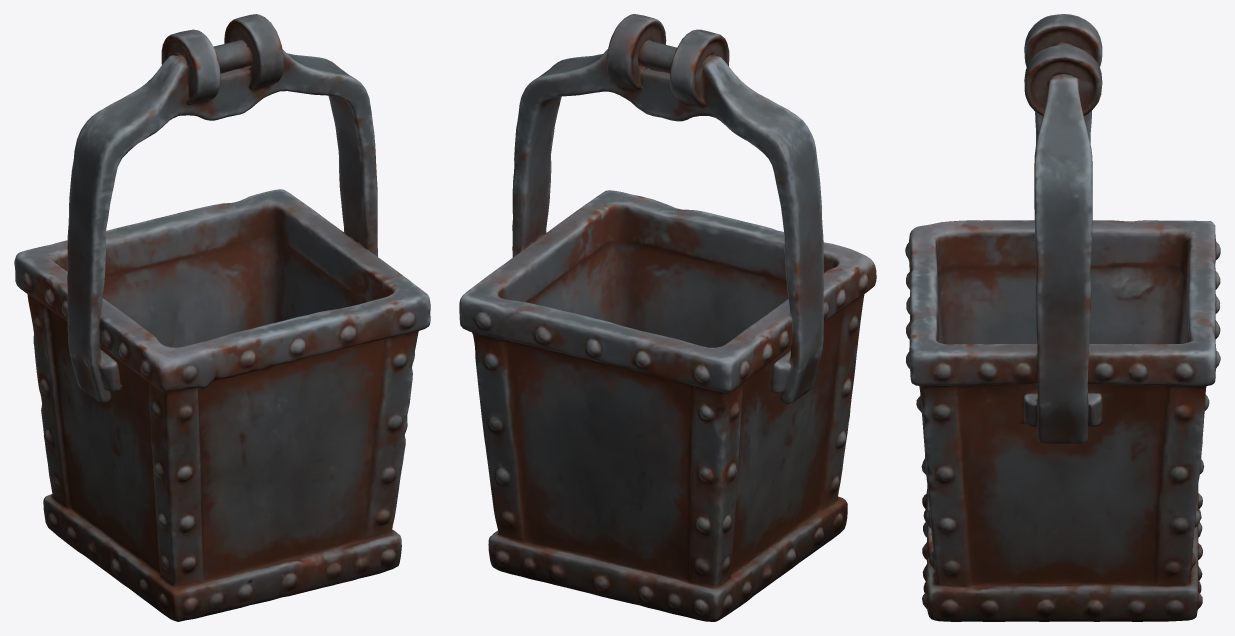
File: capacho.glb
3 renders of one model, left to right at view 1: azimuth 30°, elevation 25°; view 2: azimuth 150°, elevation 25°; view 3: azimuth 270°, elevation 25°, orthographic. The views are drawn at different scales.
Parts seen in each view (by area): view 1: geometry_0; view 2: geometry_0; view 3: geometry_0.
Boxes of the visible parts, left/top/right/bottom form: geometry_0: left=14, top=14, right=430, bottom=621; geometry_0: left=459, top=14, right=876, bottom=621; geometry_0: left=905, top=14, right=1220, bottom=621.
Bounding box in the file's own units: 0.5797 × 1 × 0.5366.
Materials: 1 (1 with a texture image).
